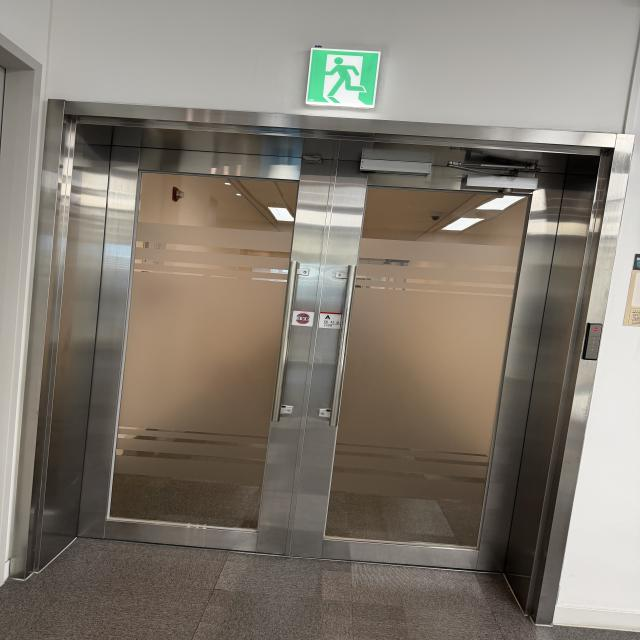rear_door: (53, 119, 611, 581)
